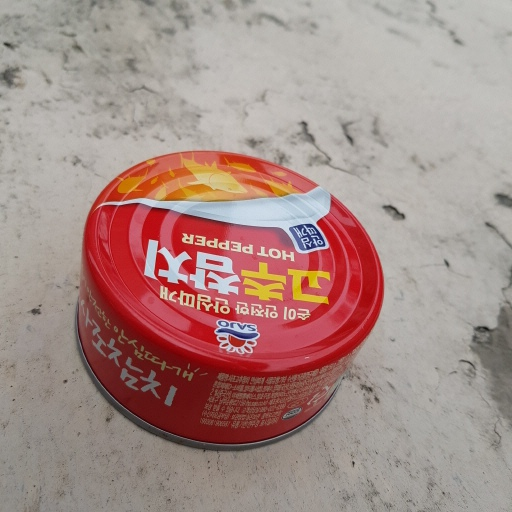Metal_1: (72, 149, 386, 457)
